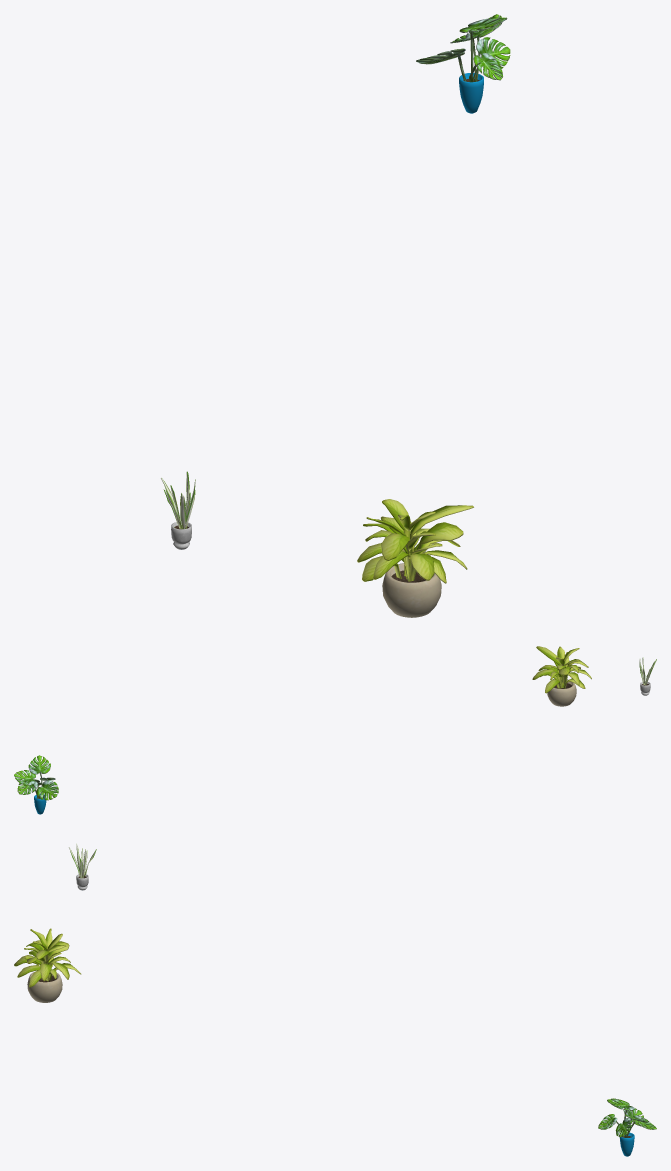
The model's file is mesh_70_plants.glb.
The picture shows the model from 3 angles, top to bottom: view 1: azimuth 30°, elevation 25°; view 2: azimuth 150°, elevation 25°; view 3: azimuth 270°, elevation 25°; orthographic projection. The views are drawn at different scales.
Visible parts, largest first — view 1: Large_Plant_1.001, Medium_Plant_3.002, Medium_Plant_5.002; view 2: Large_Plant_1.001, Medium_Plant_3.002, Medium_Plant_5.002; view 3: Large_Plant_1.001, Medium_Plant_3.002, Medium_Plant_5.002.
Part boxes in pixels (<box>): Large_Plant_1.001: <box>357,499,473,617</box>; Medium_Plant_3.002: <box>416,14,510,113</box>; Medium_Plant_5.002: <box>161,471,195,549</box>; Large_Plant_1.001: <box>532,646,591,706</box>; Medium_Plant_3.002: <box>14,755,58,814</box>; Medium_Plant_5.002: <box>639,657,656,695</box>; Large_Plant_1.001: <box>14,928,81,1002</box>; Medium_Plant_3.002: <box>598,1098,656,1156</box>; Medium_Plant_5.002: <box>69,843,96,890</box>.
Size of the model in its own units: 7.84 by 1.52 by 9.16.
2 materials, 2 textured.
